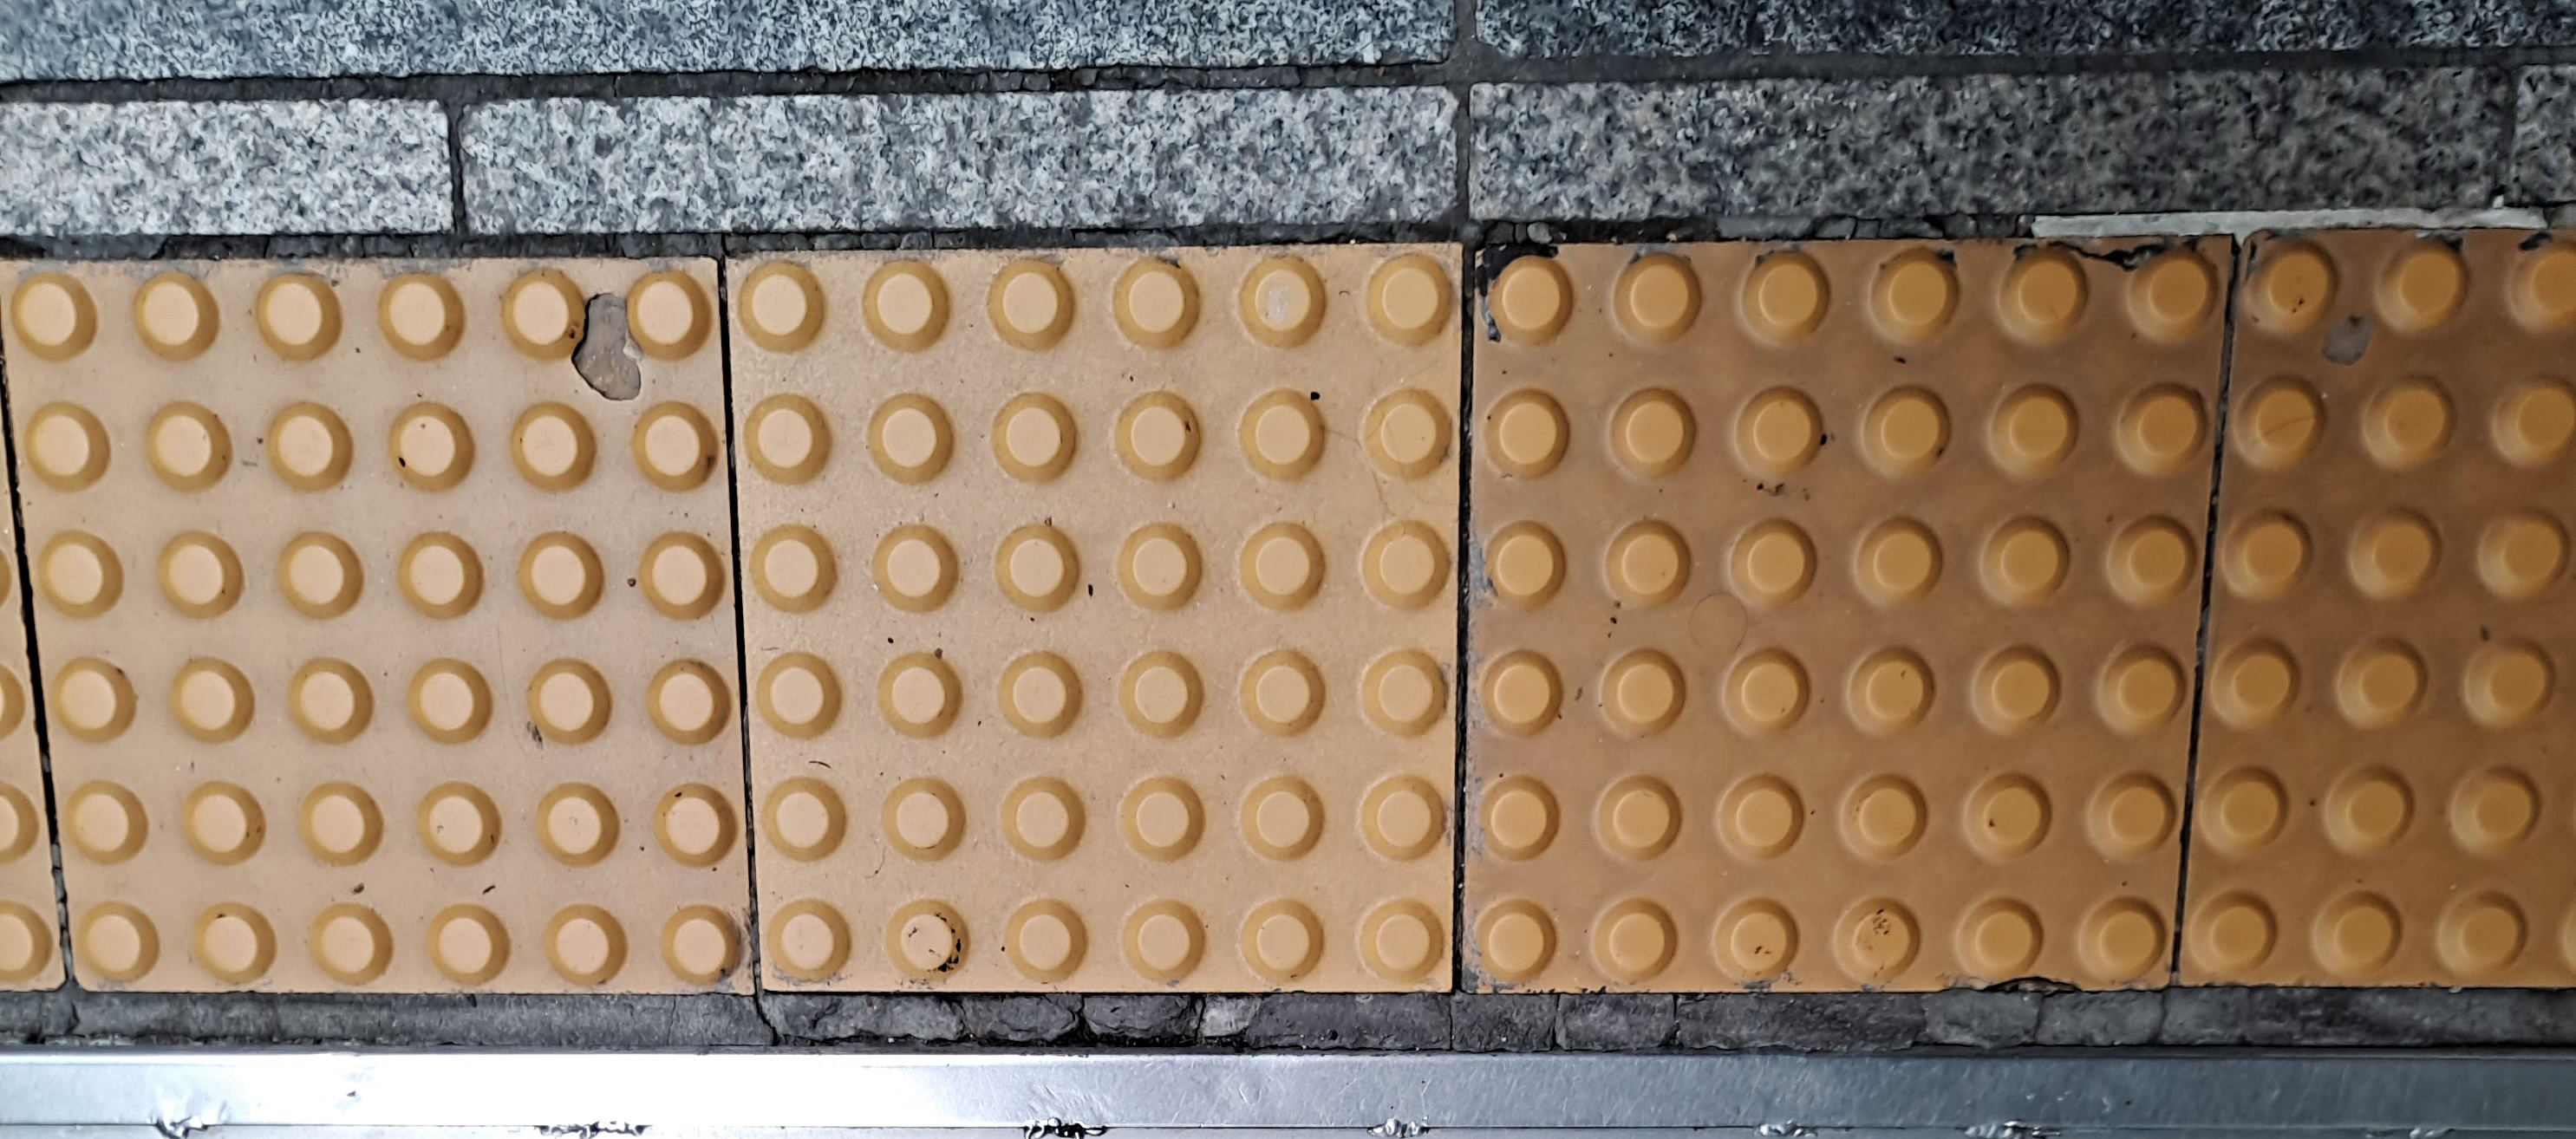warningBlock: (723, 255, 1493, 957), (18, 266, 769, 971), (1493, 243, 2169, 973), (2182, 243, 2571, 985)
